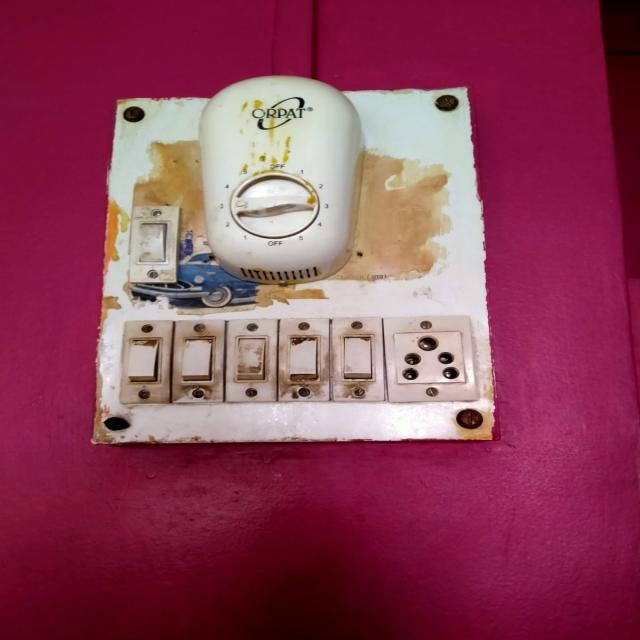Switch Board: (87, 83, 502, 442)
